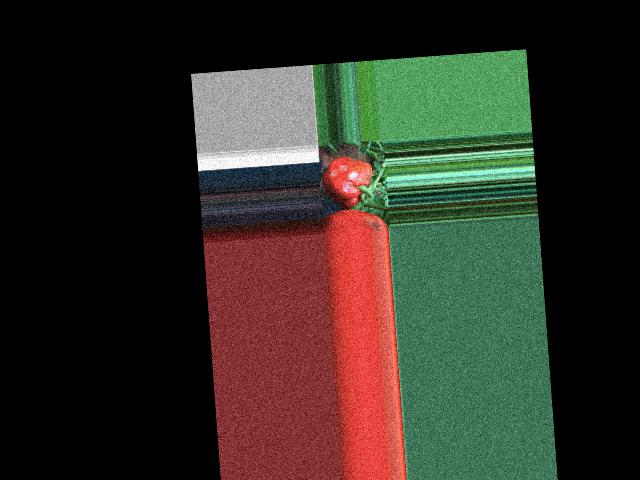bell_pepper: (318, 156, 379, 209)
